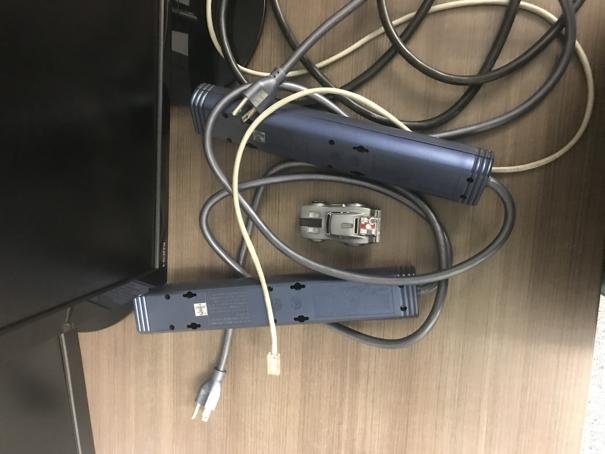Charger: (296, 199, 384, 251)
